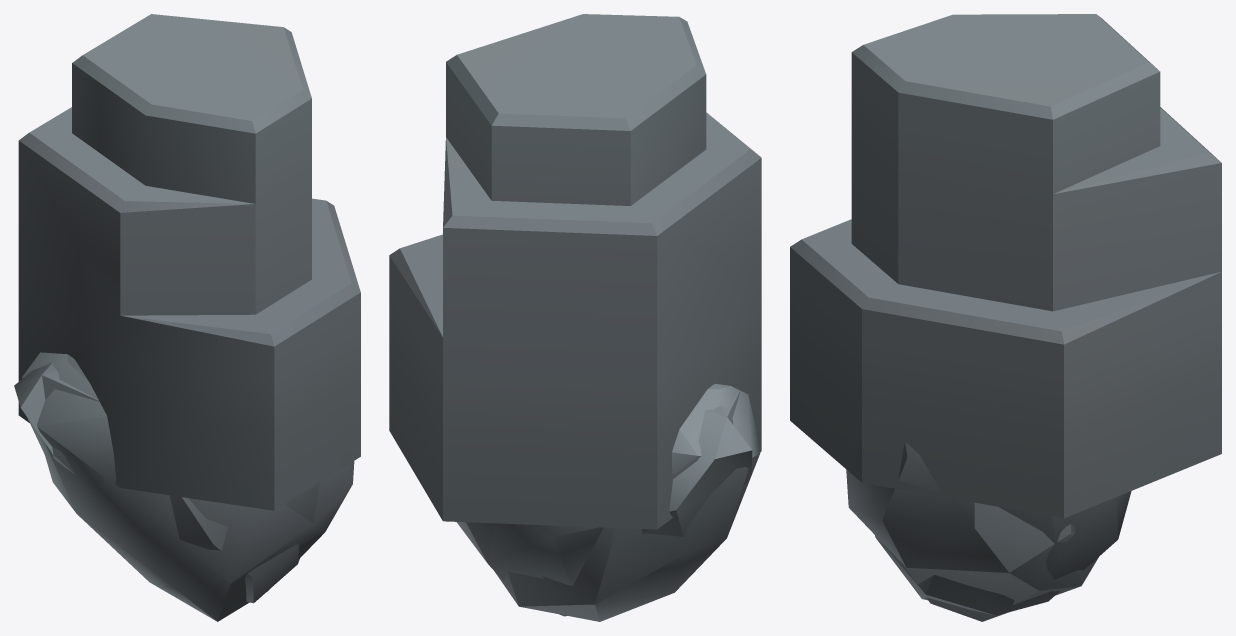
Rendered from HeroRocks.glb.
3 renders of one model, left to right at view 1: azimuth 30°, elevation 25°; view 2: azimuth 150°, elevation 25°; view 3: azimuth 270°, elevation 25°, orthographic. The views are drawn at different scales.
Parts seen in each view (by area): view 1: Rock_1_D_Color1, Rock_3_D_Color1, Rock_3_A_Color1; view 2: Rock_1_D_Color1, Rock_3_D_Color1, Rock_3_A_Color1; view 3: Rock_1_D_Color1, Rock_3_D_Color1, Rock_3_A_Color1.
Boxes of the visible parts, x1=… form: Rock_1_D_Color1: x1=18, y1=14, x2=360, y2=510; Rock_3_D_Color1: x1=22, y1=352, x2=354, y2=621; Rock_3_A_Color1: x1=14, y1=362, x2=299, y2=603; Rock_1_D_Color1: x1=389, y1=14, x2=761, y2=529; Rock_3_D_Color1: x1=494, y1=383, x2=760, y2=621; Rock_3_A_Color1: x1=456, y1=390, x2=752, y2=616; Rock_1_D_Color1: x1=790, y1=14, x2=1221, y2=518; Rock_3_D_Color1: x1=846, y1=441, x2=1098, y2=621; Rock_3_A_Color1: x1=875, y1=491, x2=1131, y2=615.
Size of the model in its own units: 1.07 by 1.64 by 1.16.
1 material, 1 textured.
